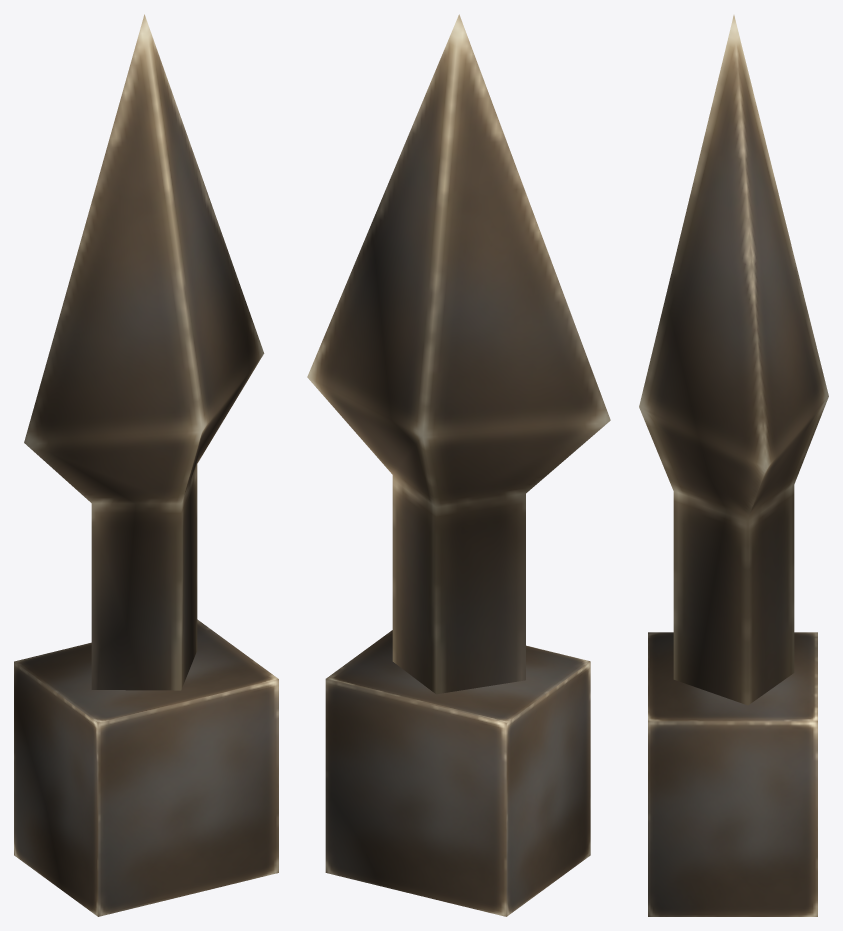
Rendered from Harrow01.FBX.
3 views of the same model, side by side, from view 1: azimuth 30°, elevation 25°; view 2: azimuth 150°, elevation 25°; view 3: azimuth 270°, elevation 25° (orthographic).
Visible parts, largest first — view 1: Harrow01; view 2: Harrow01; view 3: Harrow01.
Part boxes in pixels (box(x1,y1,x2,y2)): Harrow01: box(14, 14, 278, 916); Harrow01: box(307, 14, 610, 916); Harrow01: box(639, 15, 828, 916).
Bounding box in the file's own units: 0.4217 × 0.2529 × 1.26.
